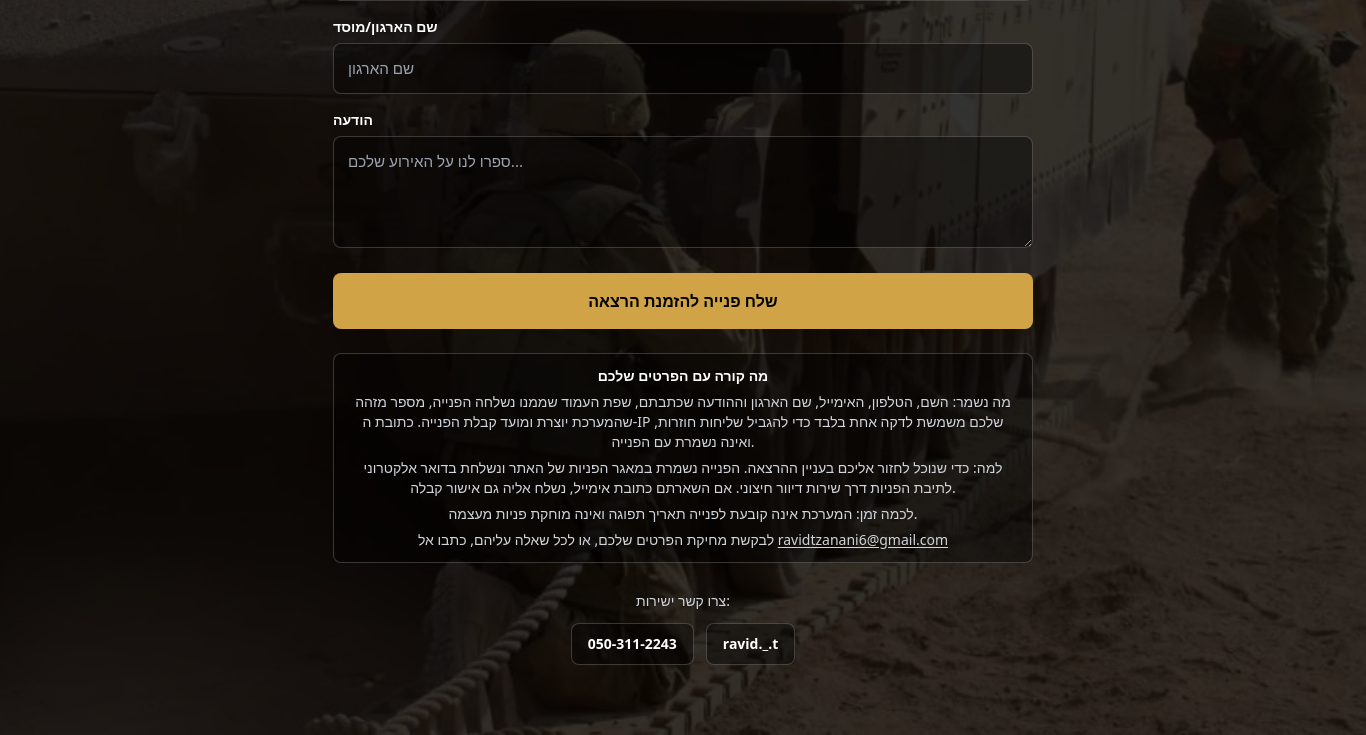
Test: measurement id UNSET — every call site is a silent no-op › the whole form funnel — attempt, success, and the contact links — reports nothing
(page scrolled)
Click the link "ravid._.t" at (751, 644), box [706,623,795,665]
(page scrolled)
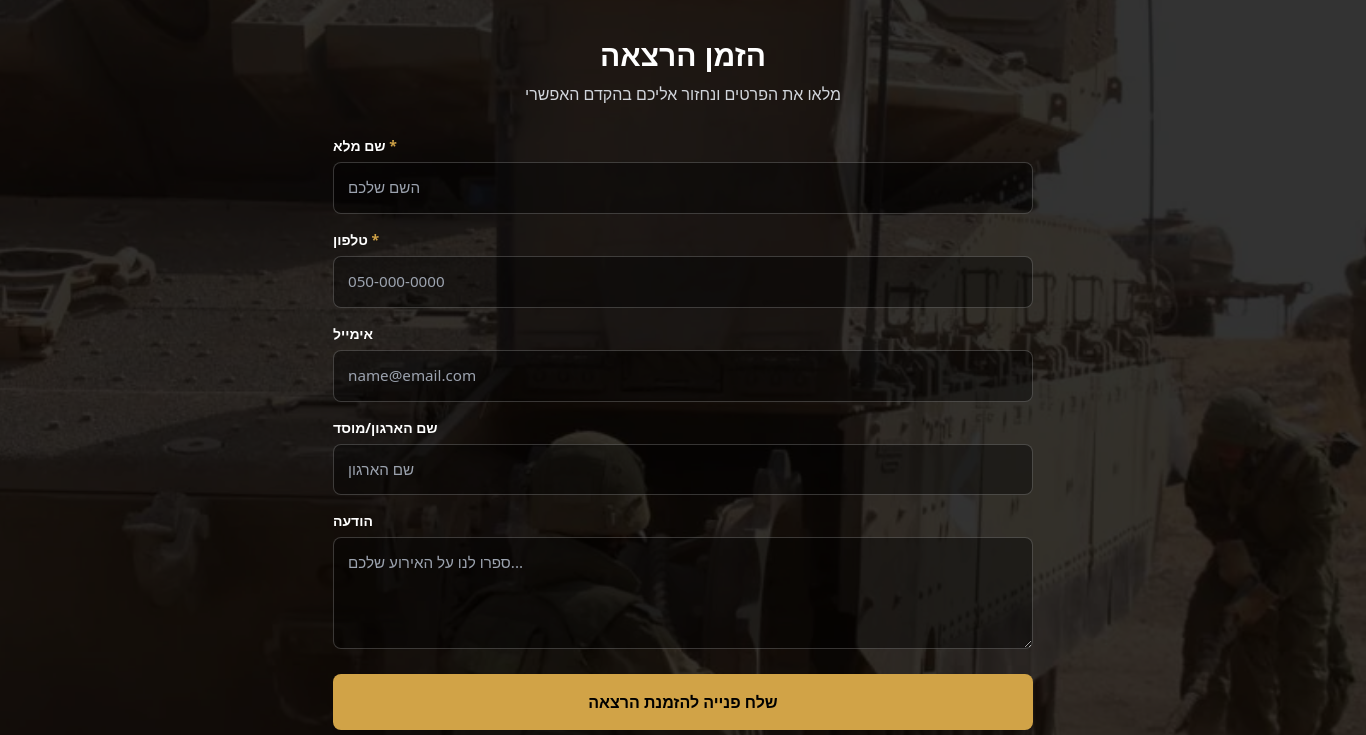
Type "Tester" into the field labelled "שם מלא *" at (683, 188), box [333,162,1033,214]
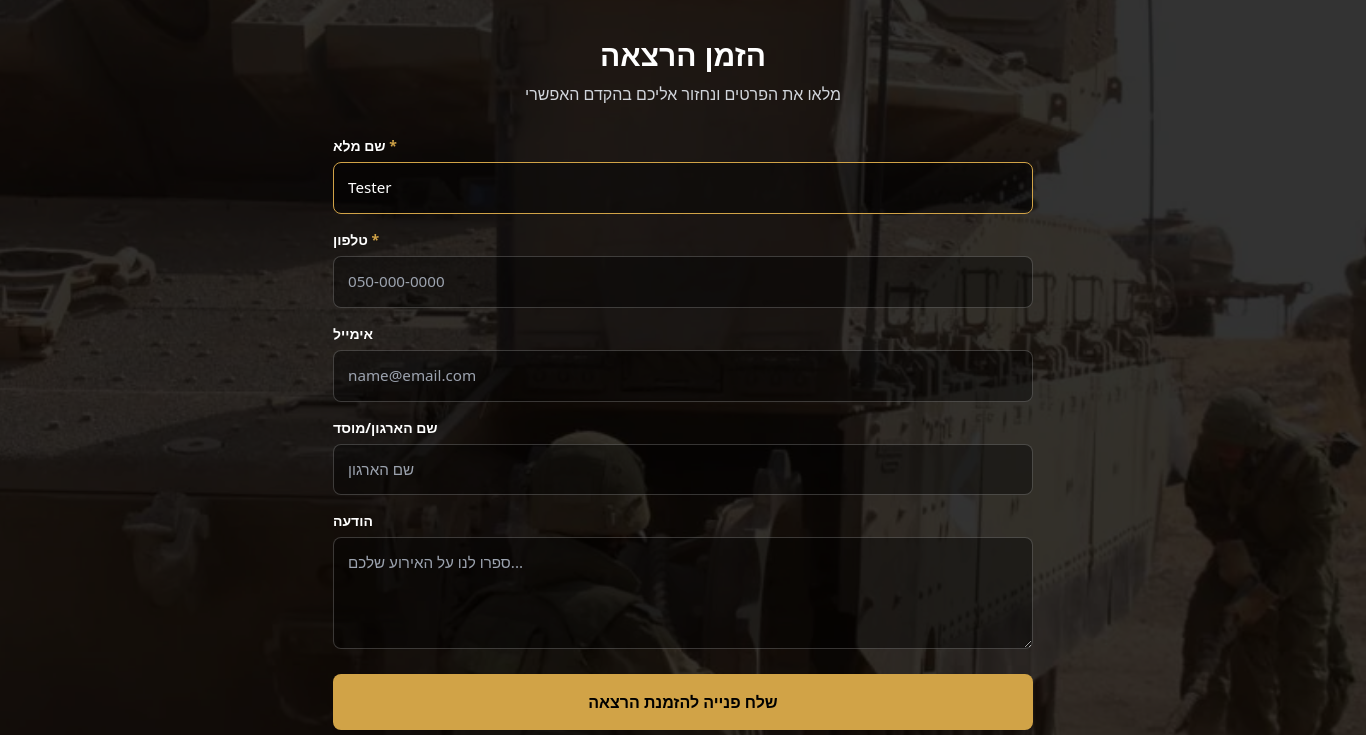
Type "0500000000" into the field labelled "טלפון *" at (683, 282), box [333,256,1033,308]
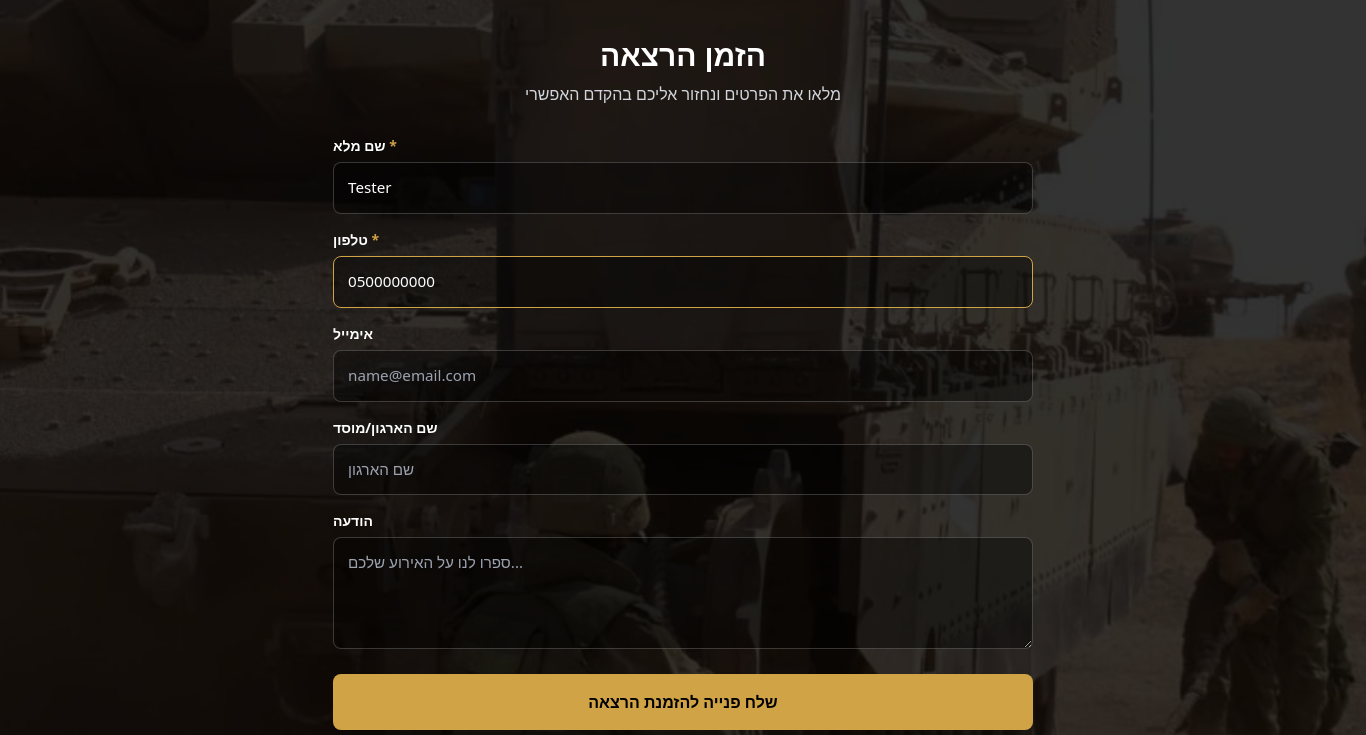
Click the button "שלח פנייה להזמנת הרצאה" at (683, 702), box [333,674,1033,730]
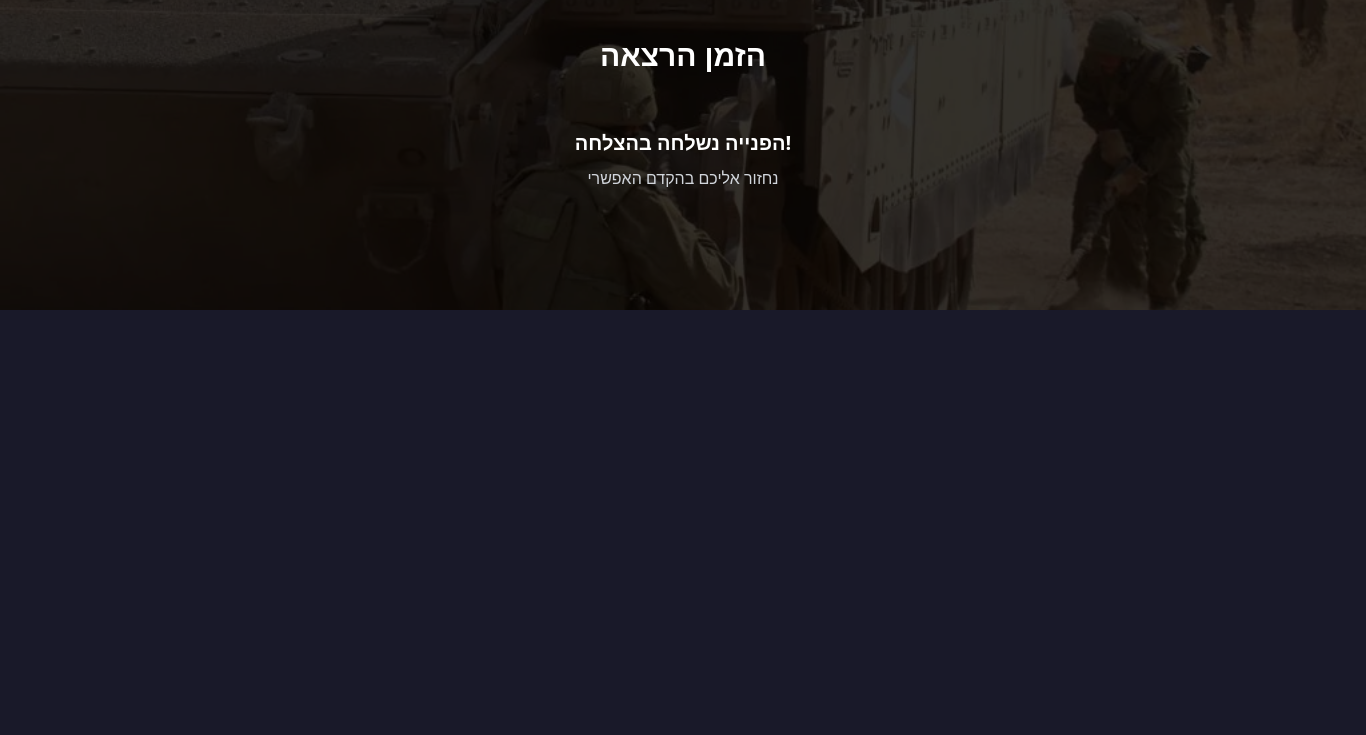
Expected: the element with test id "form-success" is shown, [575,129,791,189]
